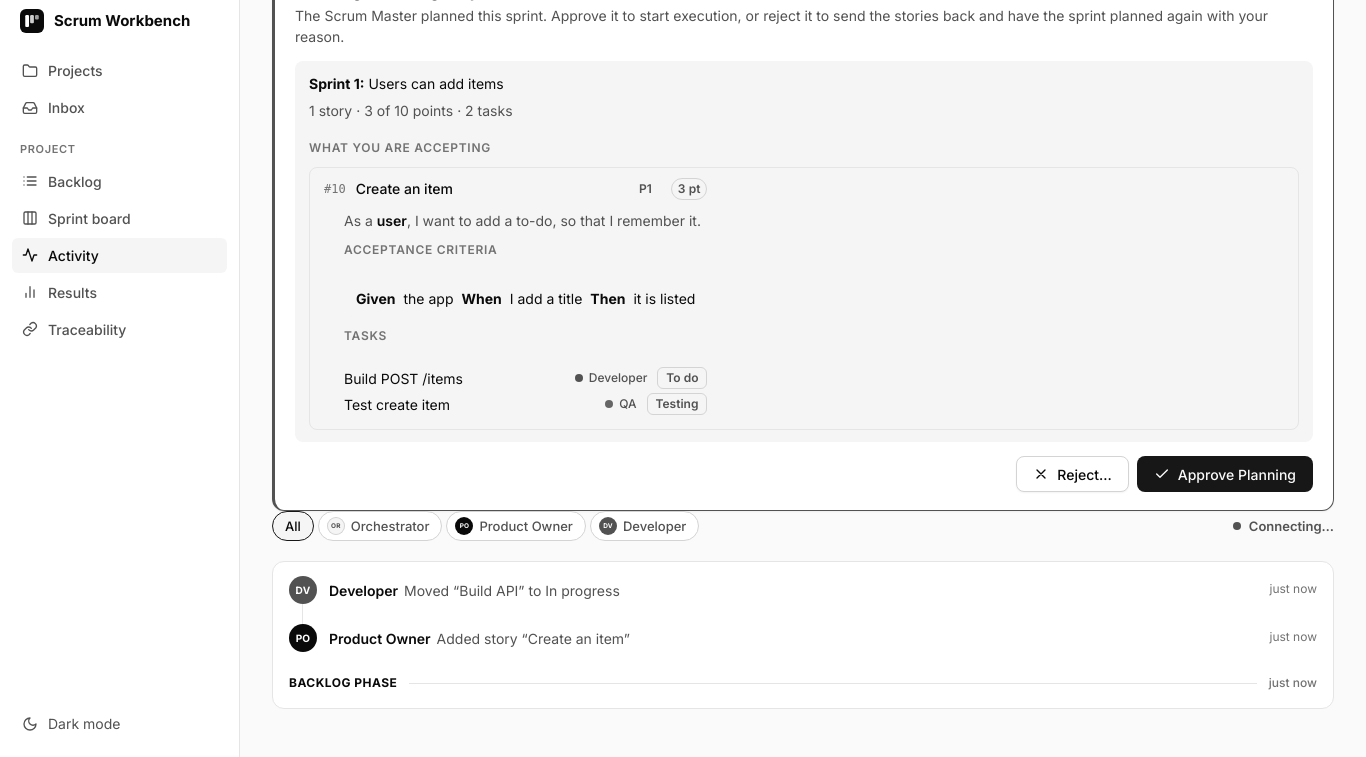
Test: ActivityPage › asks for approval at a gate and sends the reject reason
(page scrolled)
Expected: the text "Users can add items" is shown, [368,74,504,92]
Expected: the text "Create an item" is shown, [356,180,453,197]
Click the button "Reject…" at (1073, 474), box [1016,456,1129,492]
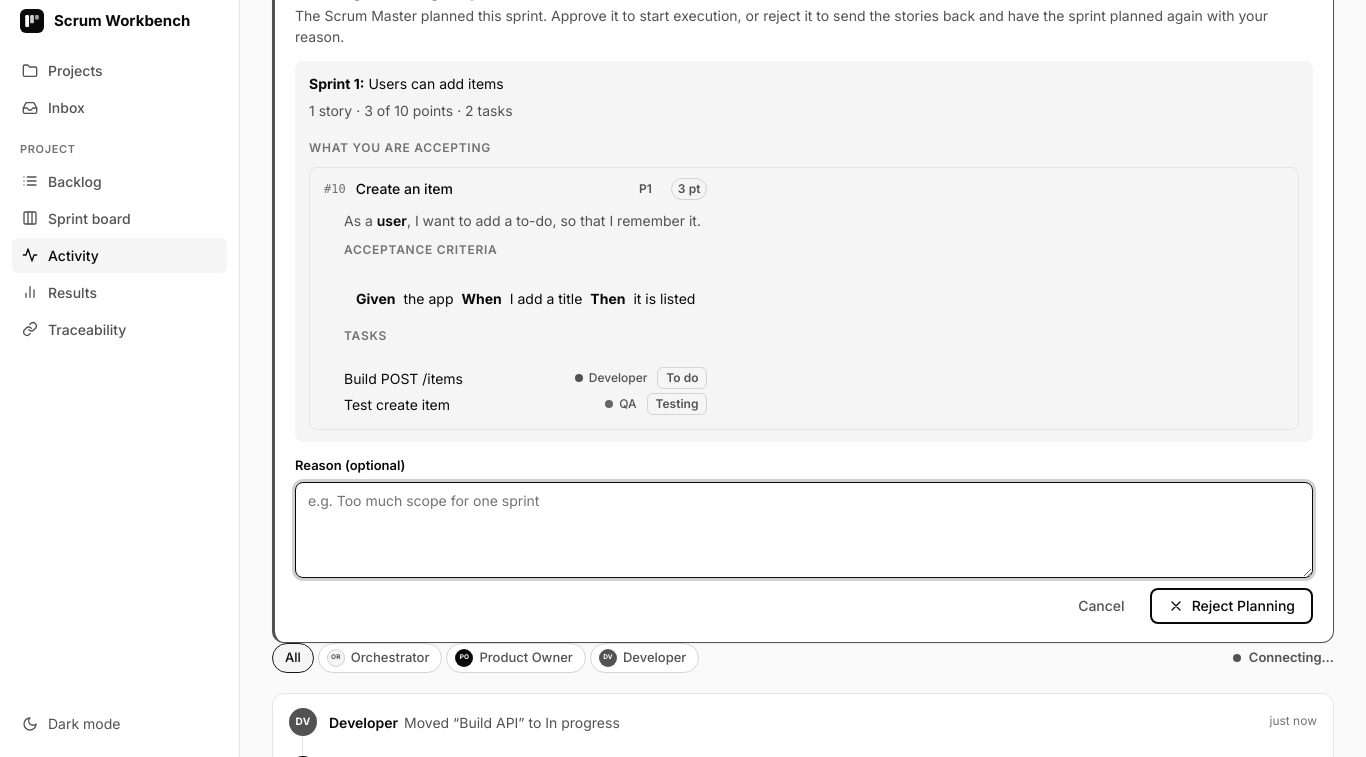
Type "Too big" into the text box labelled "Reason (optional)" at (804, 530), box [295,482,1313,578]
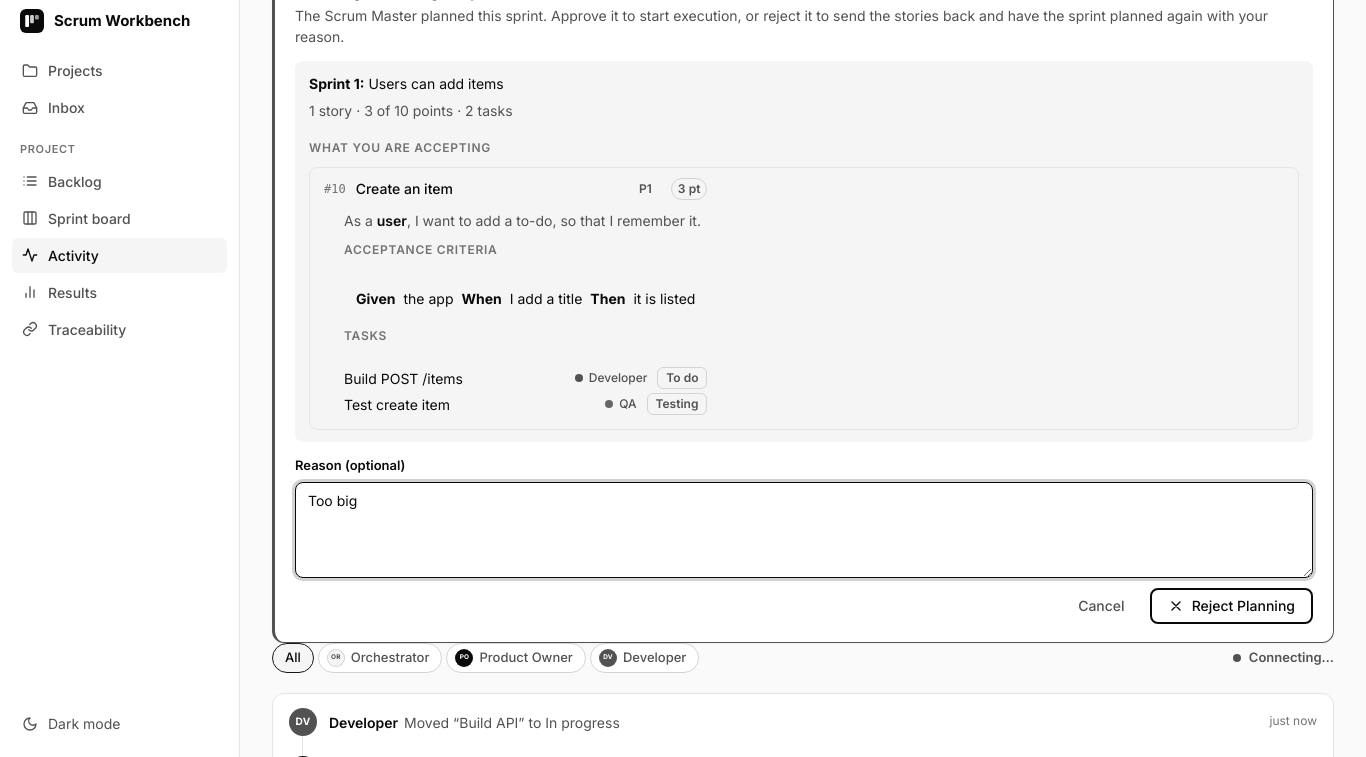
Click the button "Reject Planning" at (1231, 606), box [1150,588,1313,624]
(page scrolled)
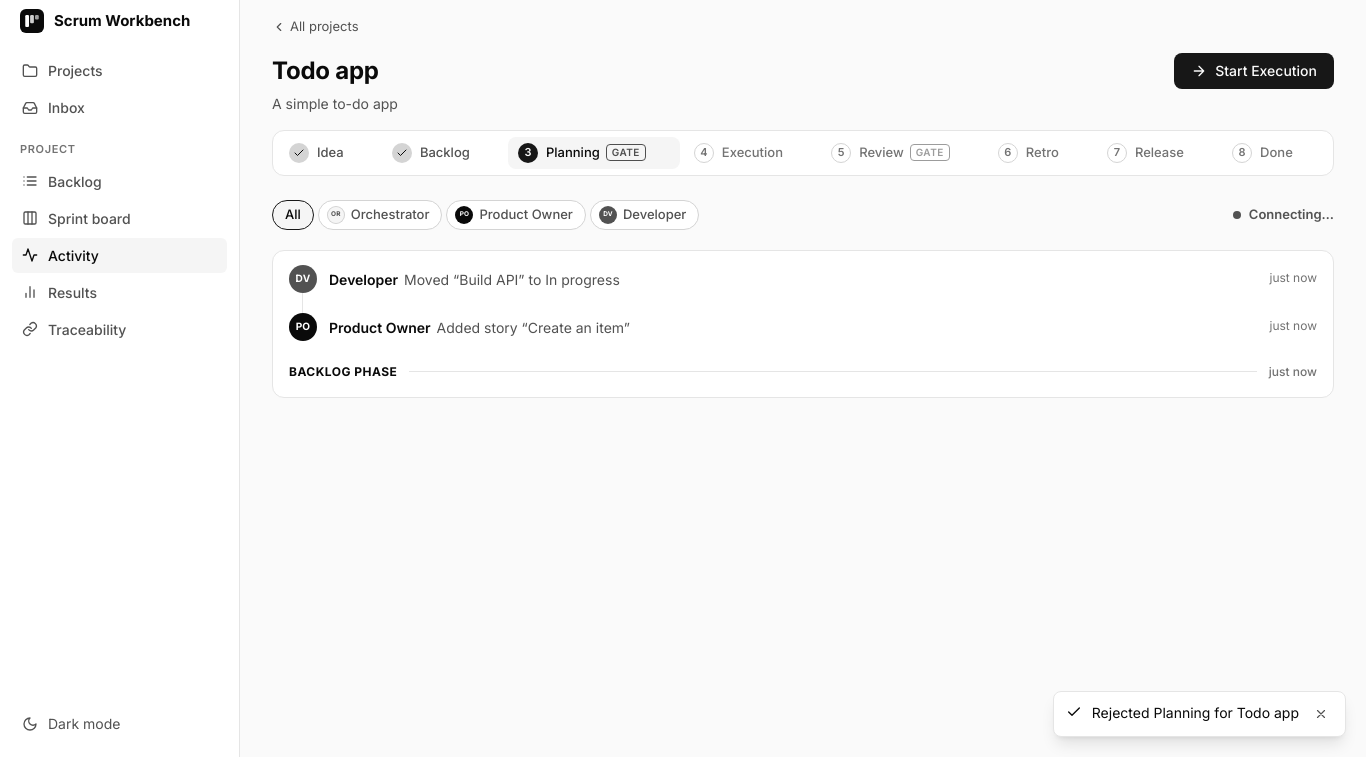
Expected: the text "Rejected Planning for Todo app" is shown, [1092,702,1299,723]
